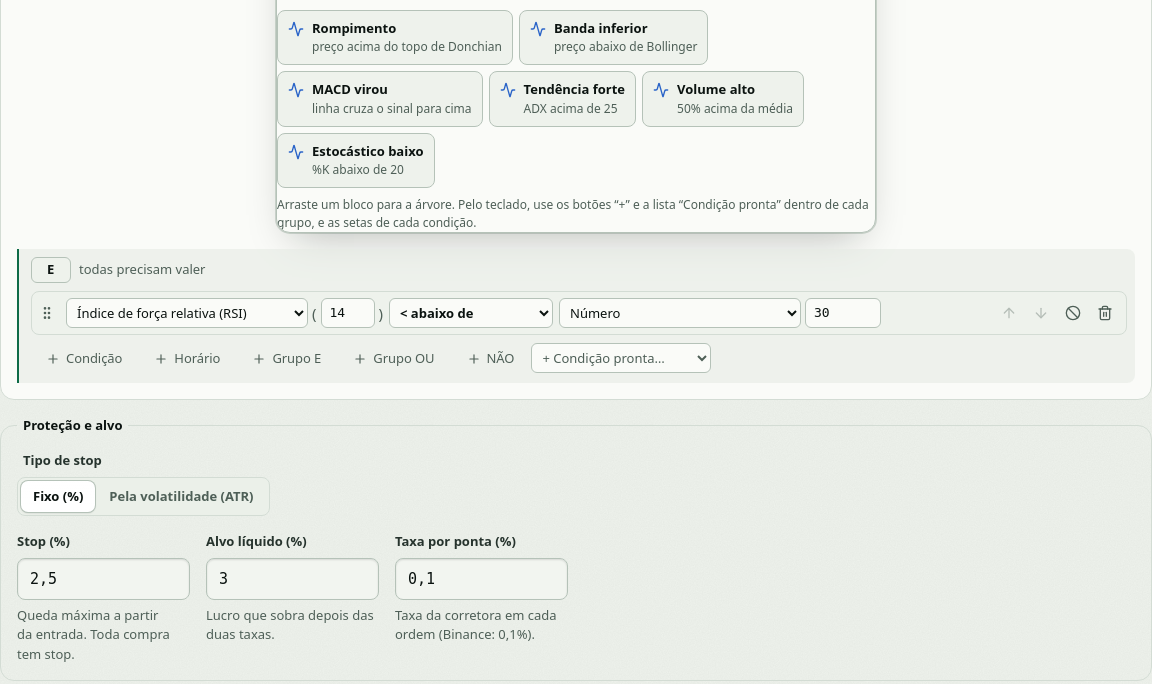
Construtor de estratégias › move, nega e remove condições pelos botões (alternativa ao arrastar)
(page scrolled)
Click the button "Grupo OU" at (394,359), box [338,343,450,375]
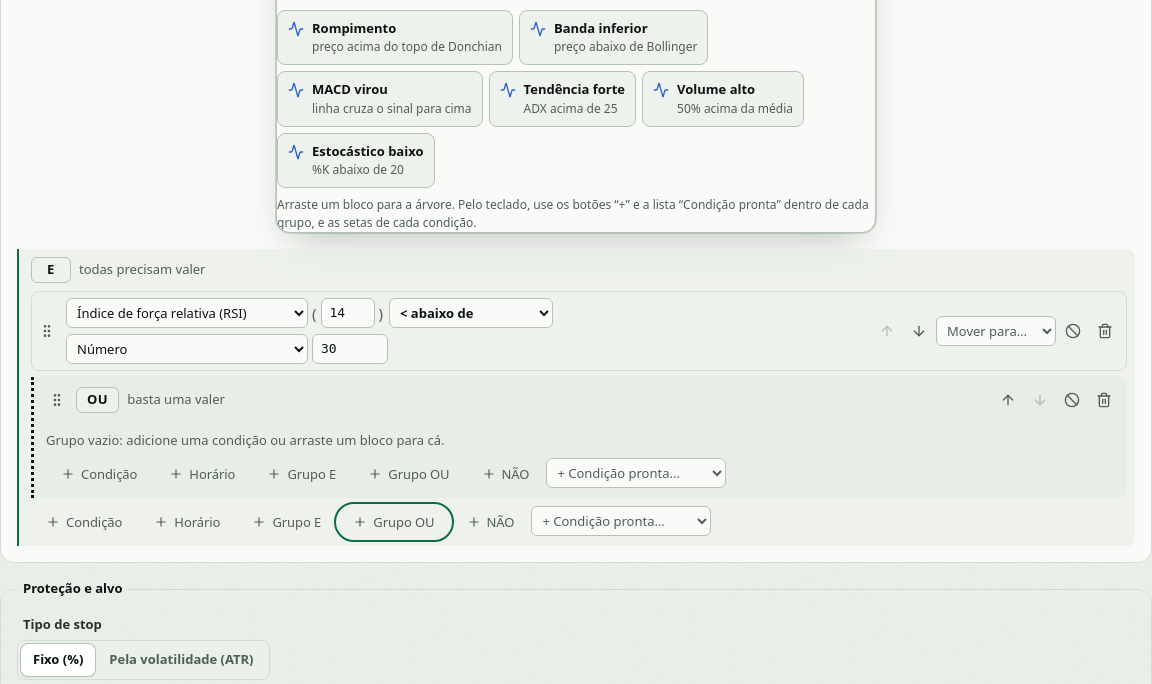
Select "Grupo E › Grupo OU" in the dropdown named "Mover condição RSI(14) abaixo de 30 para outro grupo" at (996,331), box [936,316,1056,346]
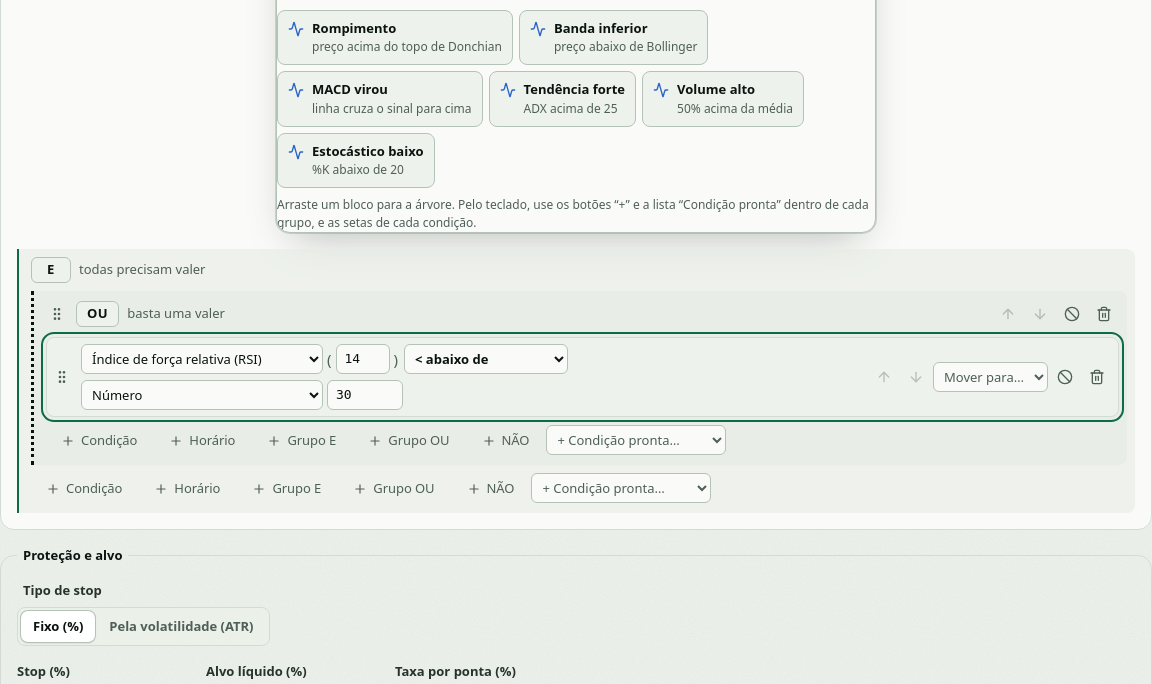
Click the button named "Negar condição RSI" at (1065,377), box [1050,362,1080,392]
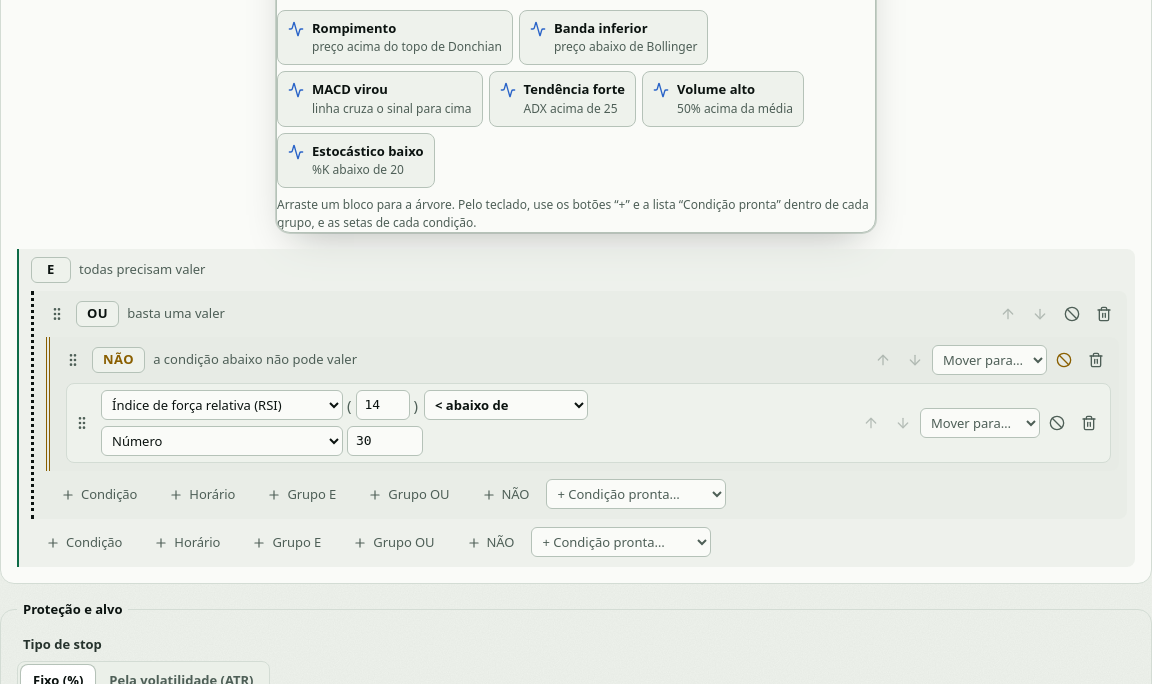
Click the button named "Tirar o NÃO" at (1064,360), box [1049,345,1079,375]
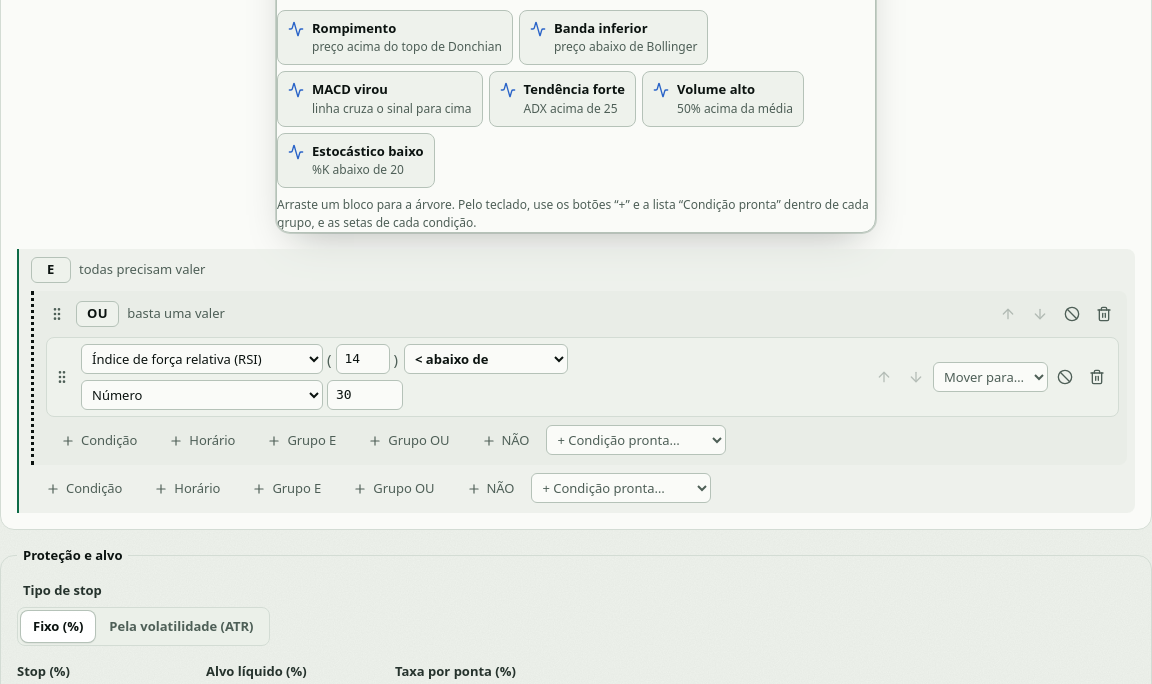
Click the button named "Remover condição RSI" at (1097,377), box [1082,362,1112,392]
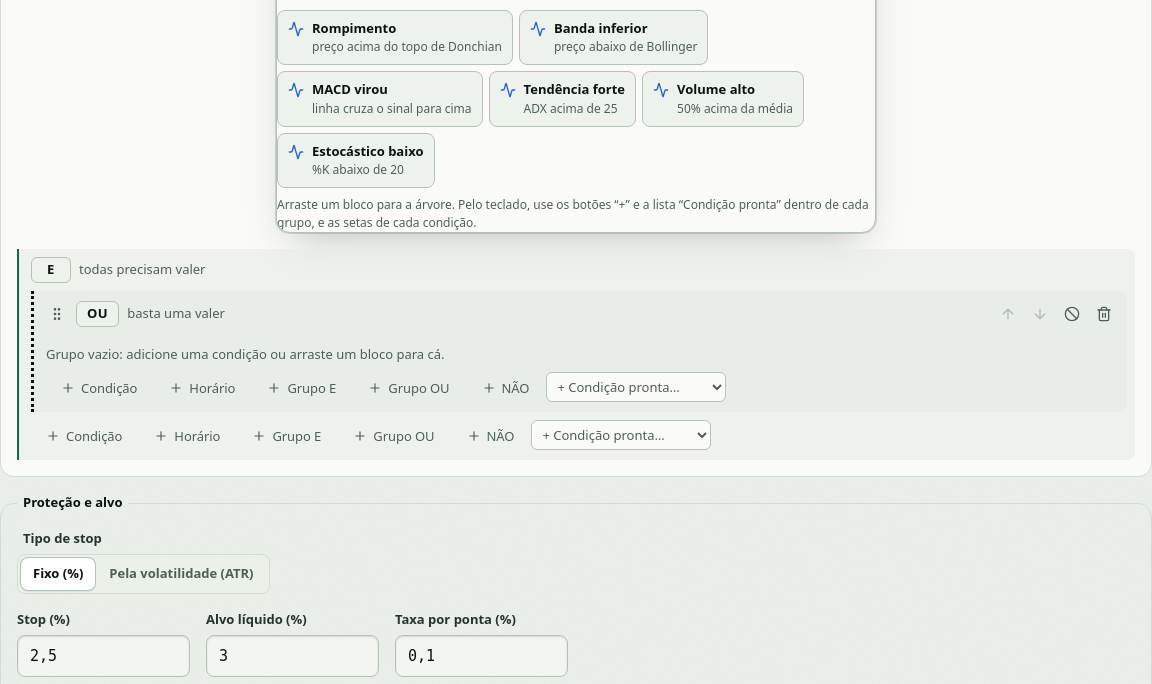
expect the text "Grupo vazio" is shown: met, box [46,345,444,363]
